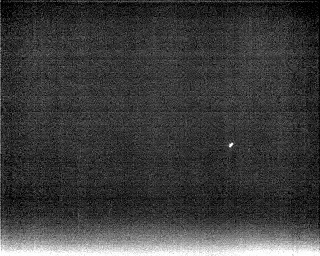BIRD: (227, 140, 236, 151)
